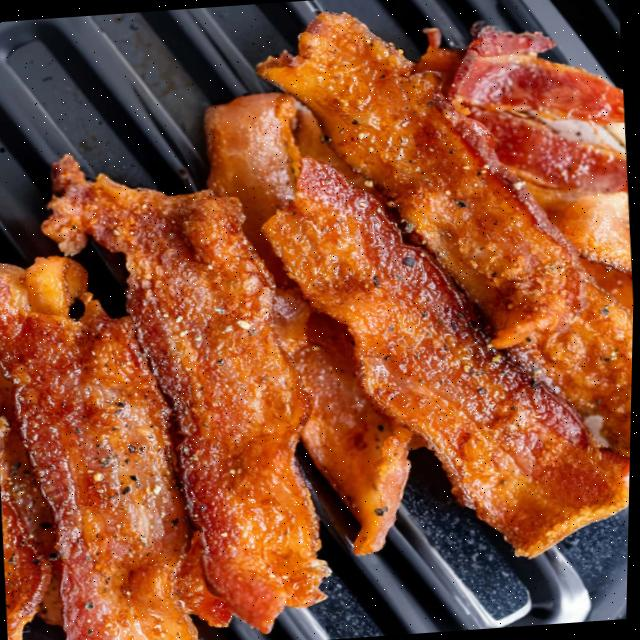Bacon: (264, 158, 632, 556), (45, 157, 330, 630), (257, 12, 586, 348), (0, 255, 233, 640), (276, 285, 414, 555)
